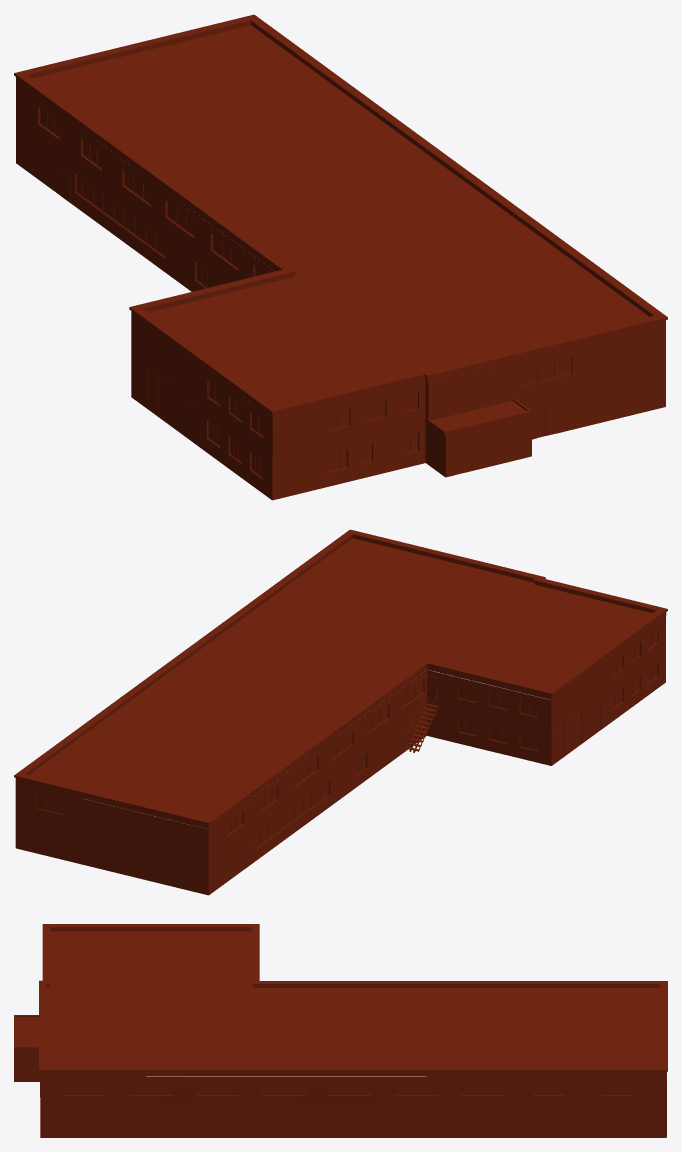
File: Building_05.fbx
3 views of the same model, one above another, from view 1: azimuth 30°, elevation 25°; view 2: azimuth 150°, elevation 25°; view 3: azimuth 270°, elevation 25° (orthographic). The views are drawn at different scales.
Visible parts, largest first — view 1: Building_05; view 2: Building_05; view 3: Building_05.
Boxes of the visible parts, x1=… form: Building_05: x1=14, y1=14, x2=667, y2=500; Building_05: x1=14, y1=529, x2=667, y2=895; Building_05: x1=14, y1=924, x2=667, y2=1137.
Bounding box in the file's own units: 3140 × 686 × 5943.
